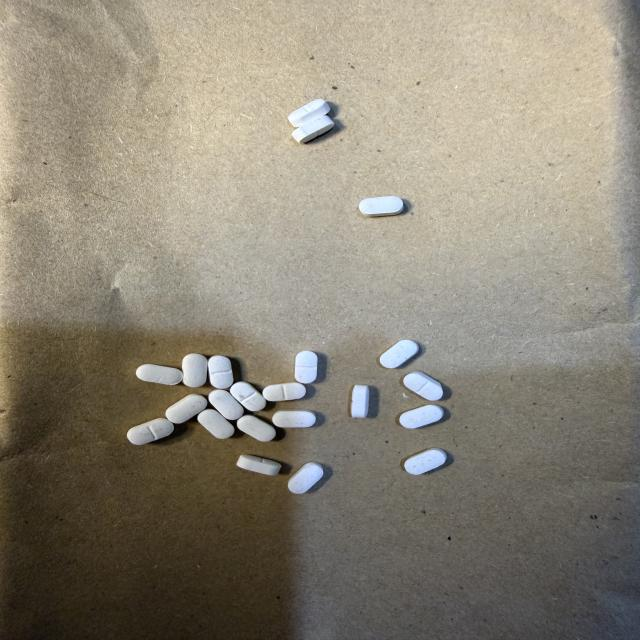pill: (166, 394, 206, 423), (127, 419, 173, 444), (292, 116, 334, 143), (289, 99, 329, 127), (403, 372, 443, 400), (380, 340, 419, 368), (288, 462, 323, 493), (230, 382, 266, 411), (198, 409, 234, 438), (405, 449, 446, 474), (399, 405, 443, 428), (237, 415, 275, 441), (209, 390, 243, 419), (136, 364, 182, 385), (237, 455, 281, 476), (359, 196, 403, 216), (182, 354, 207, 387), (272, 410, 316, 428), (263, 383, 306, 401), (209, 356, 233, 388), (295, 351, 317, 383), (351, 385, 369, 418)
